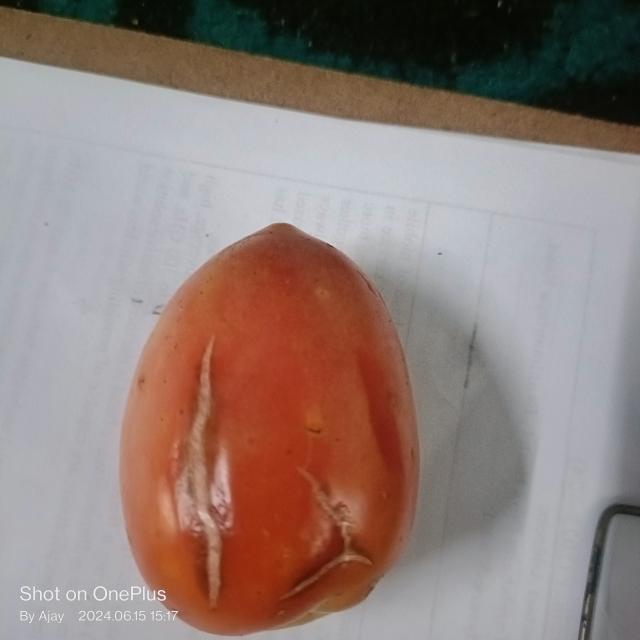tomato_cracking: (169, 344, 227, 614), (271, 483, 374, 614)
